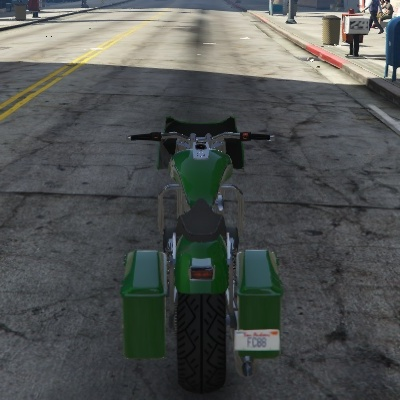off: (186, 255, 217, 284)
